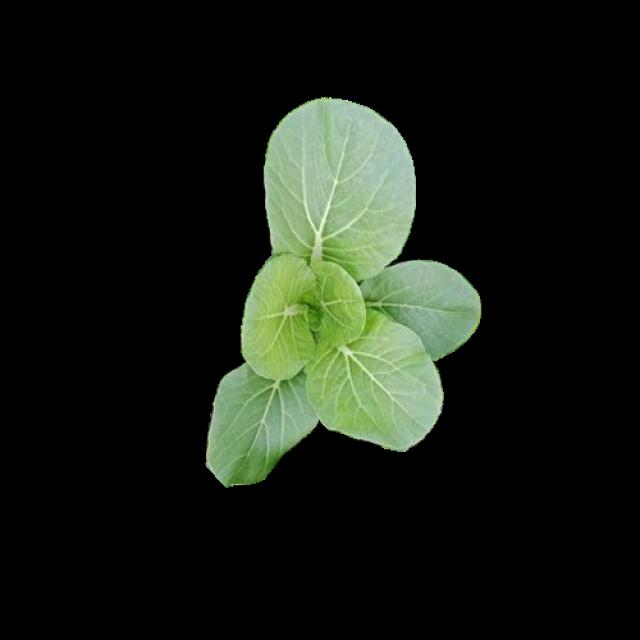healthy: (204, 98, 482, 486)
not-mature: (201, 95, 479, 484)
